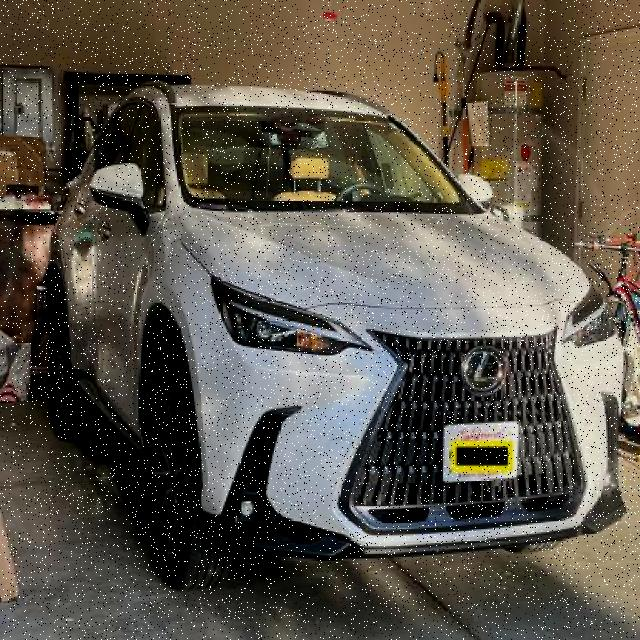licenseplate: (443, 421, 520, 483)
